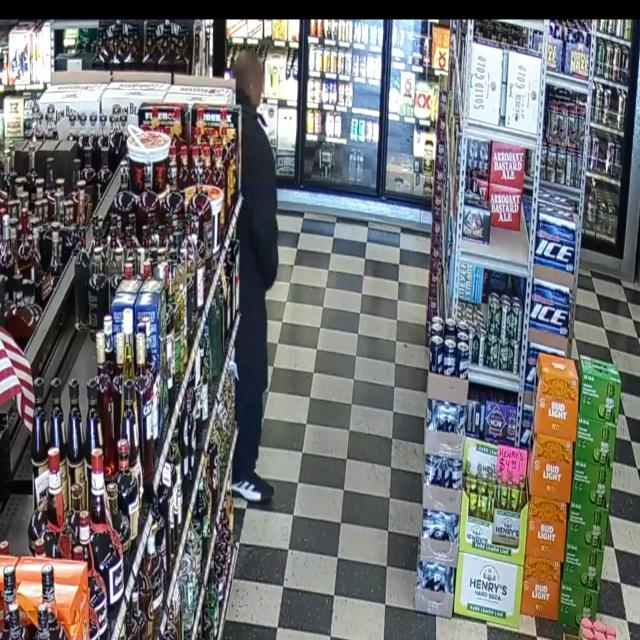normal: (219, 46, 314, 529)
